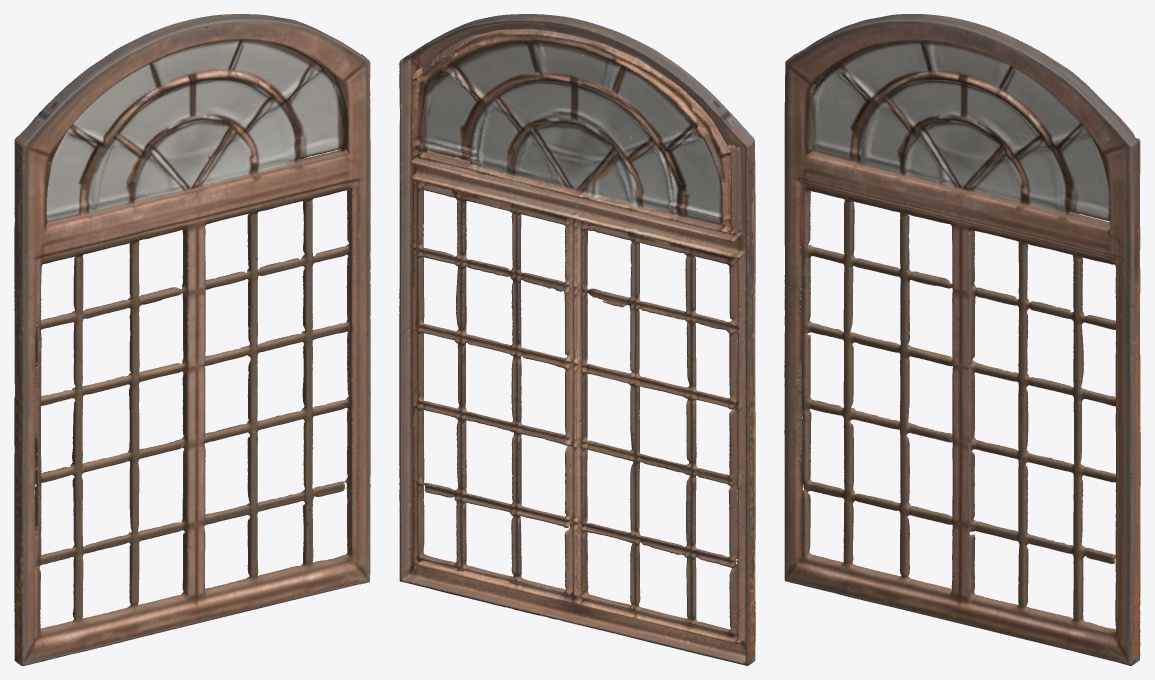
File: Meshy_AI_Rustic_Arched_Window_0211093909_texture.glb
The picture shows the model from 3 angles, left to right: view 1: azimuth 30°, elevation 25°; view 2: azimuth 150°, elevation 25°; view 3: azimuth 330°, elevation 25°; orthographic projection.
Bounding box in the file's own units: 1.22 × 2 × 0.0704.
1 material, 1 textured.
